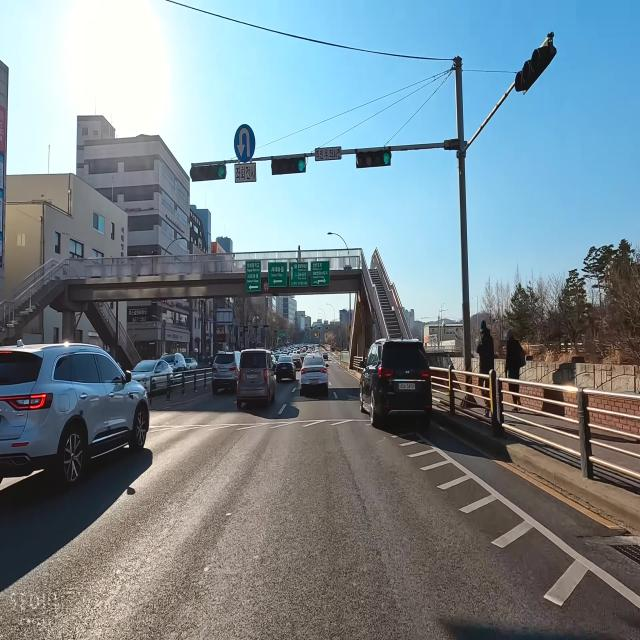Green Light: (380, 151, 390, 167), (297, 156, 306, 173), (217, 164, 225, 178), (312, 328, 314, 330), (321, 327, 322, 329), (328, 327, 329, 329)
